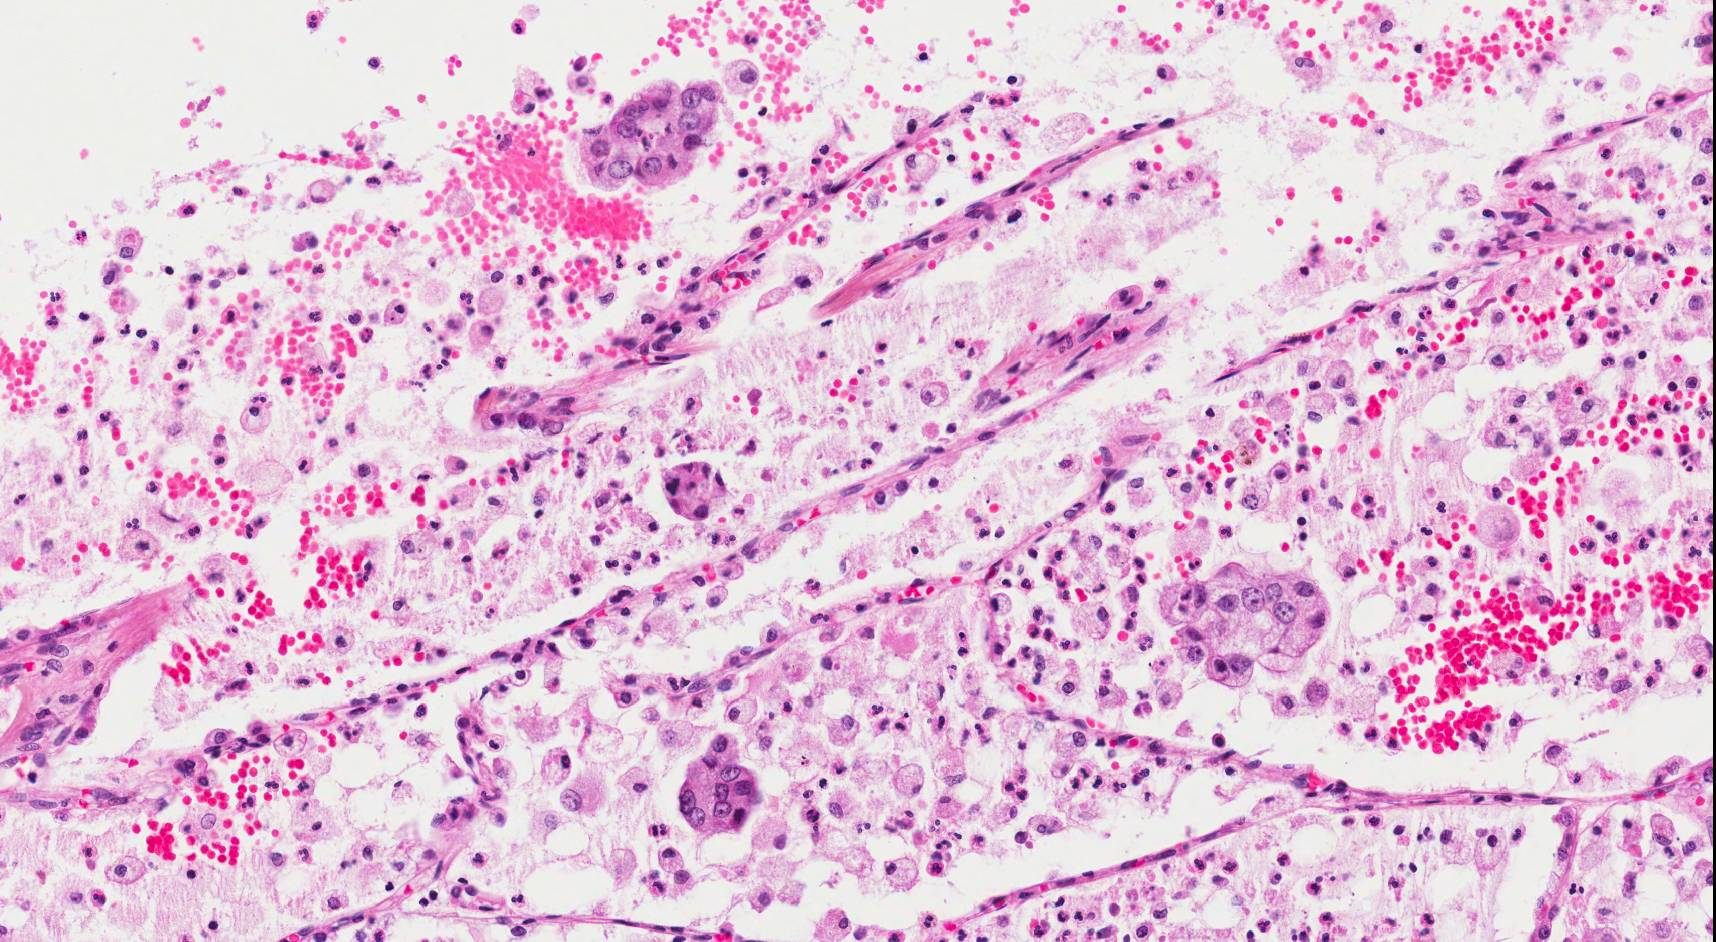stas: (1154, 563, 1335, 687), (576, 79, 730, 192), (676, 735, 765, 836), (658, 457, 733, 524)
